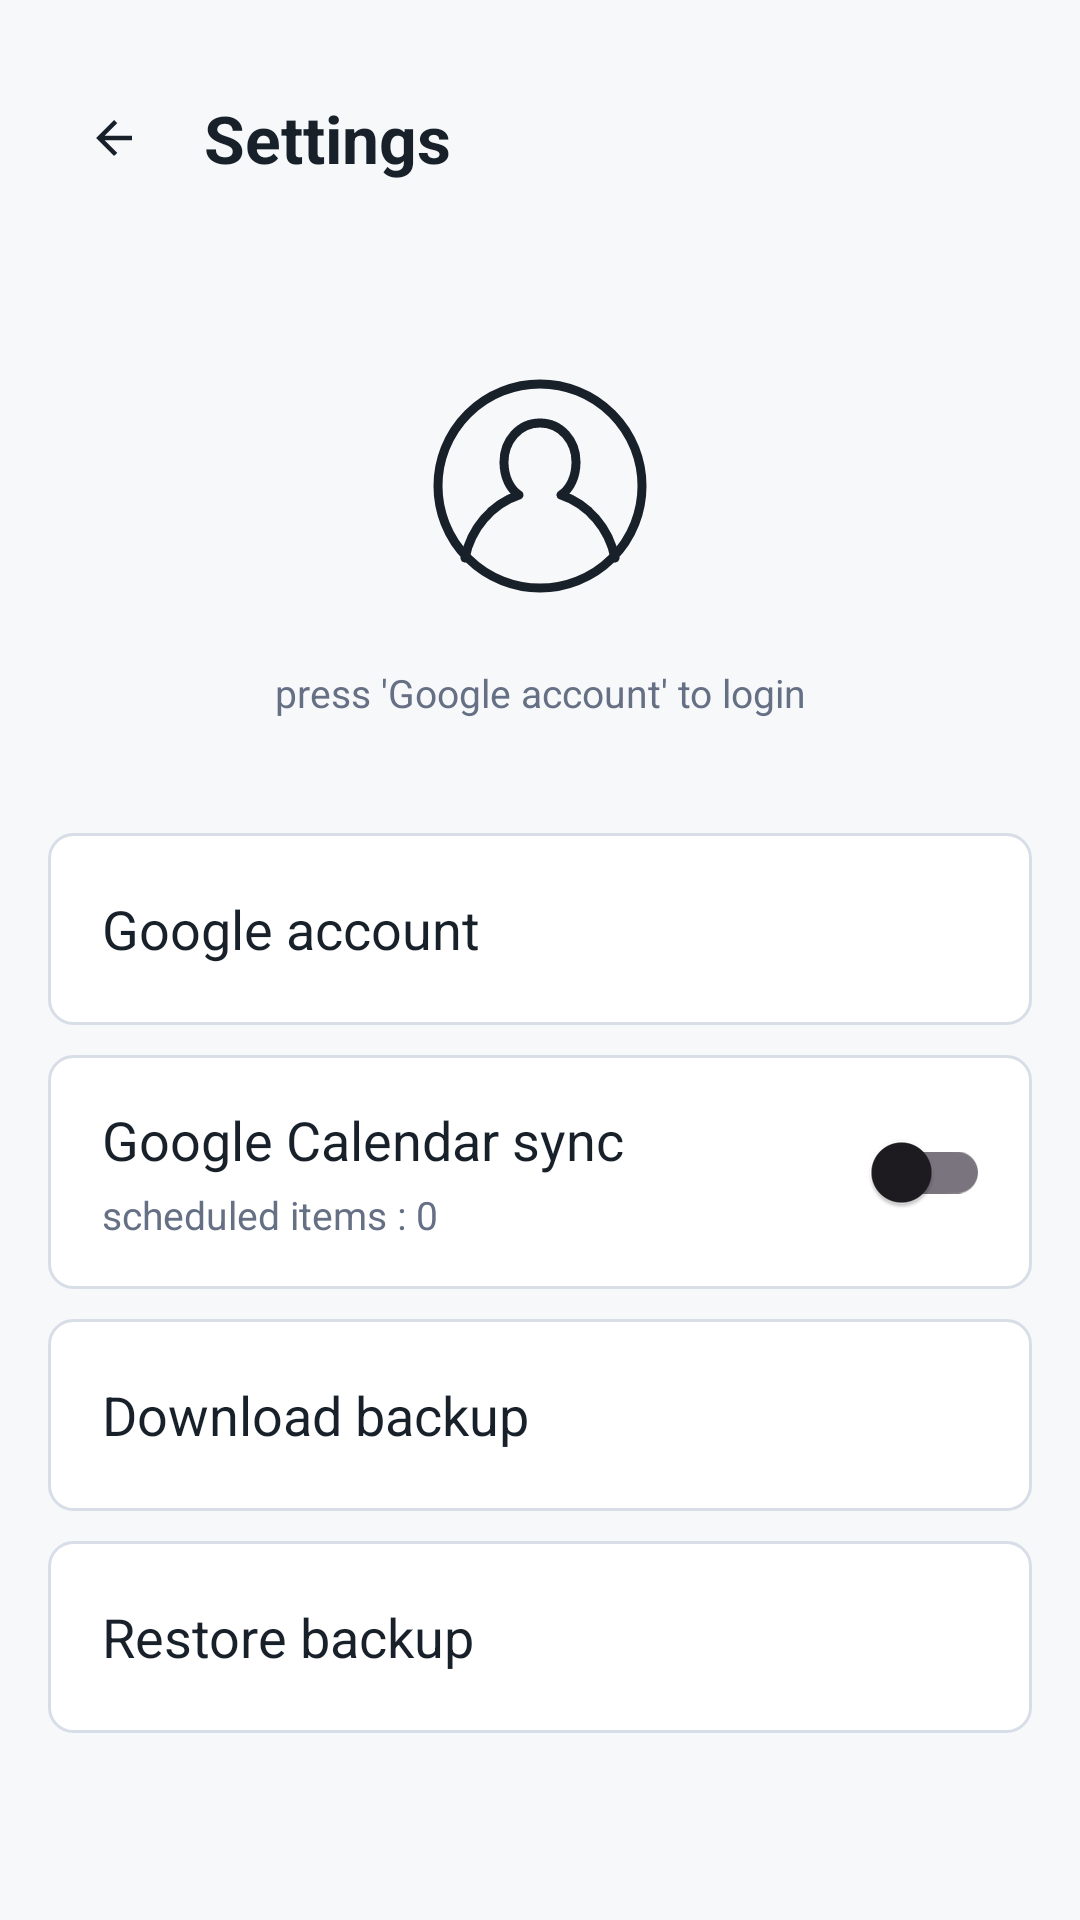

Icon bounding boxes for this 1080px x 1920px phone screenshot, format (x1, y1, x2, y2):
Google account profile: (433, 379, 647, 593)
